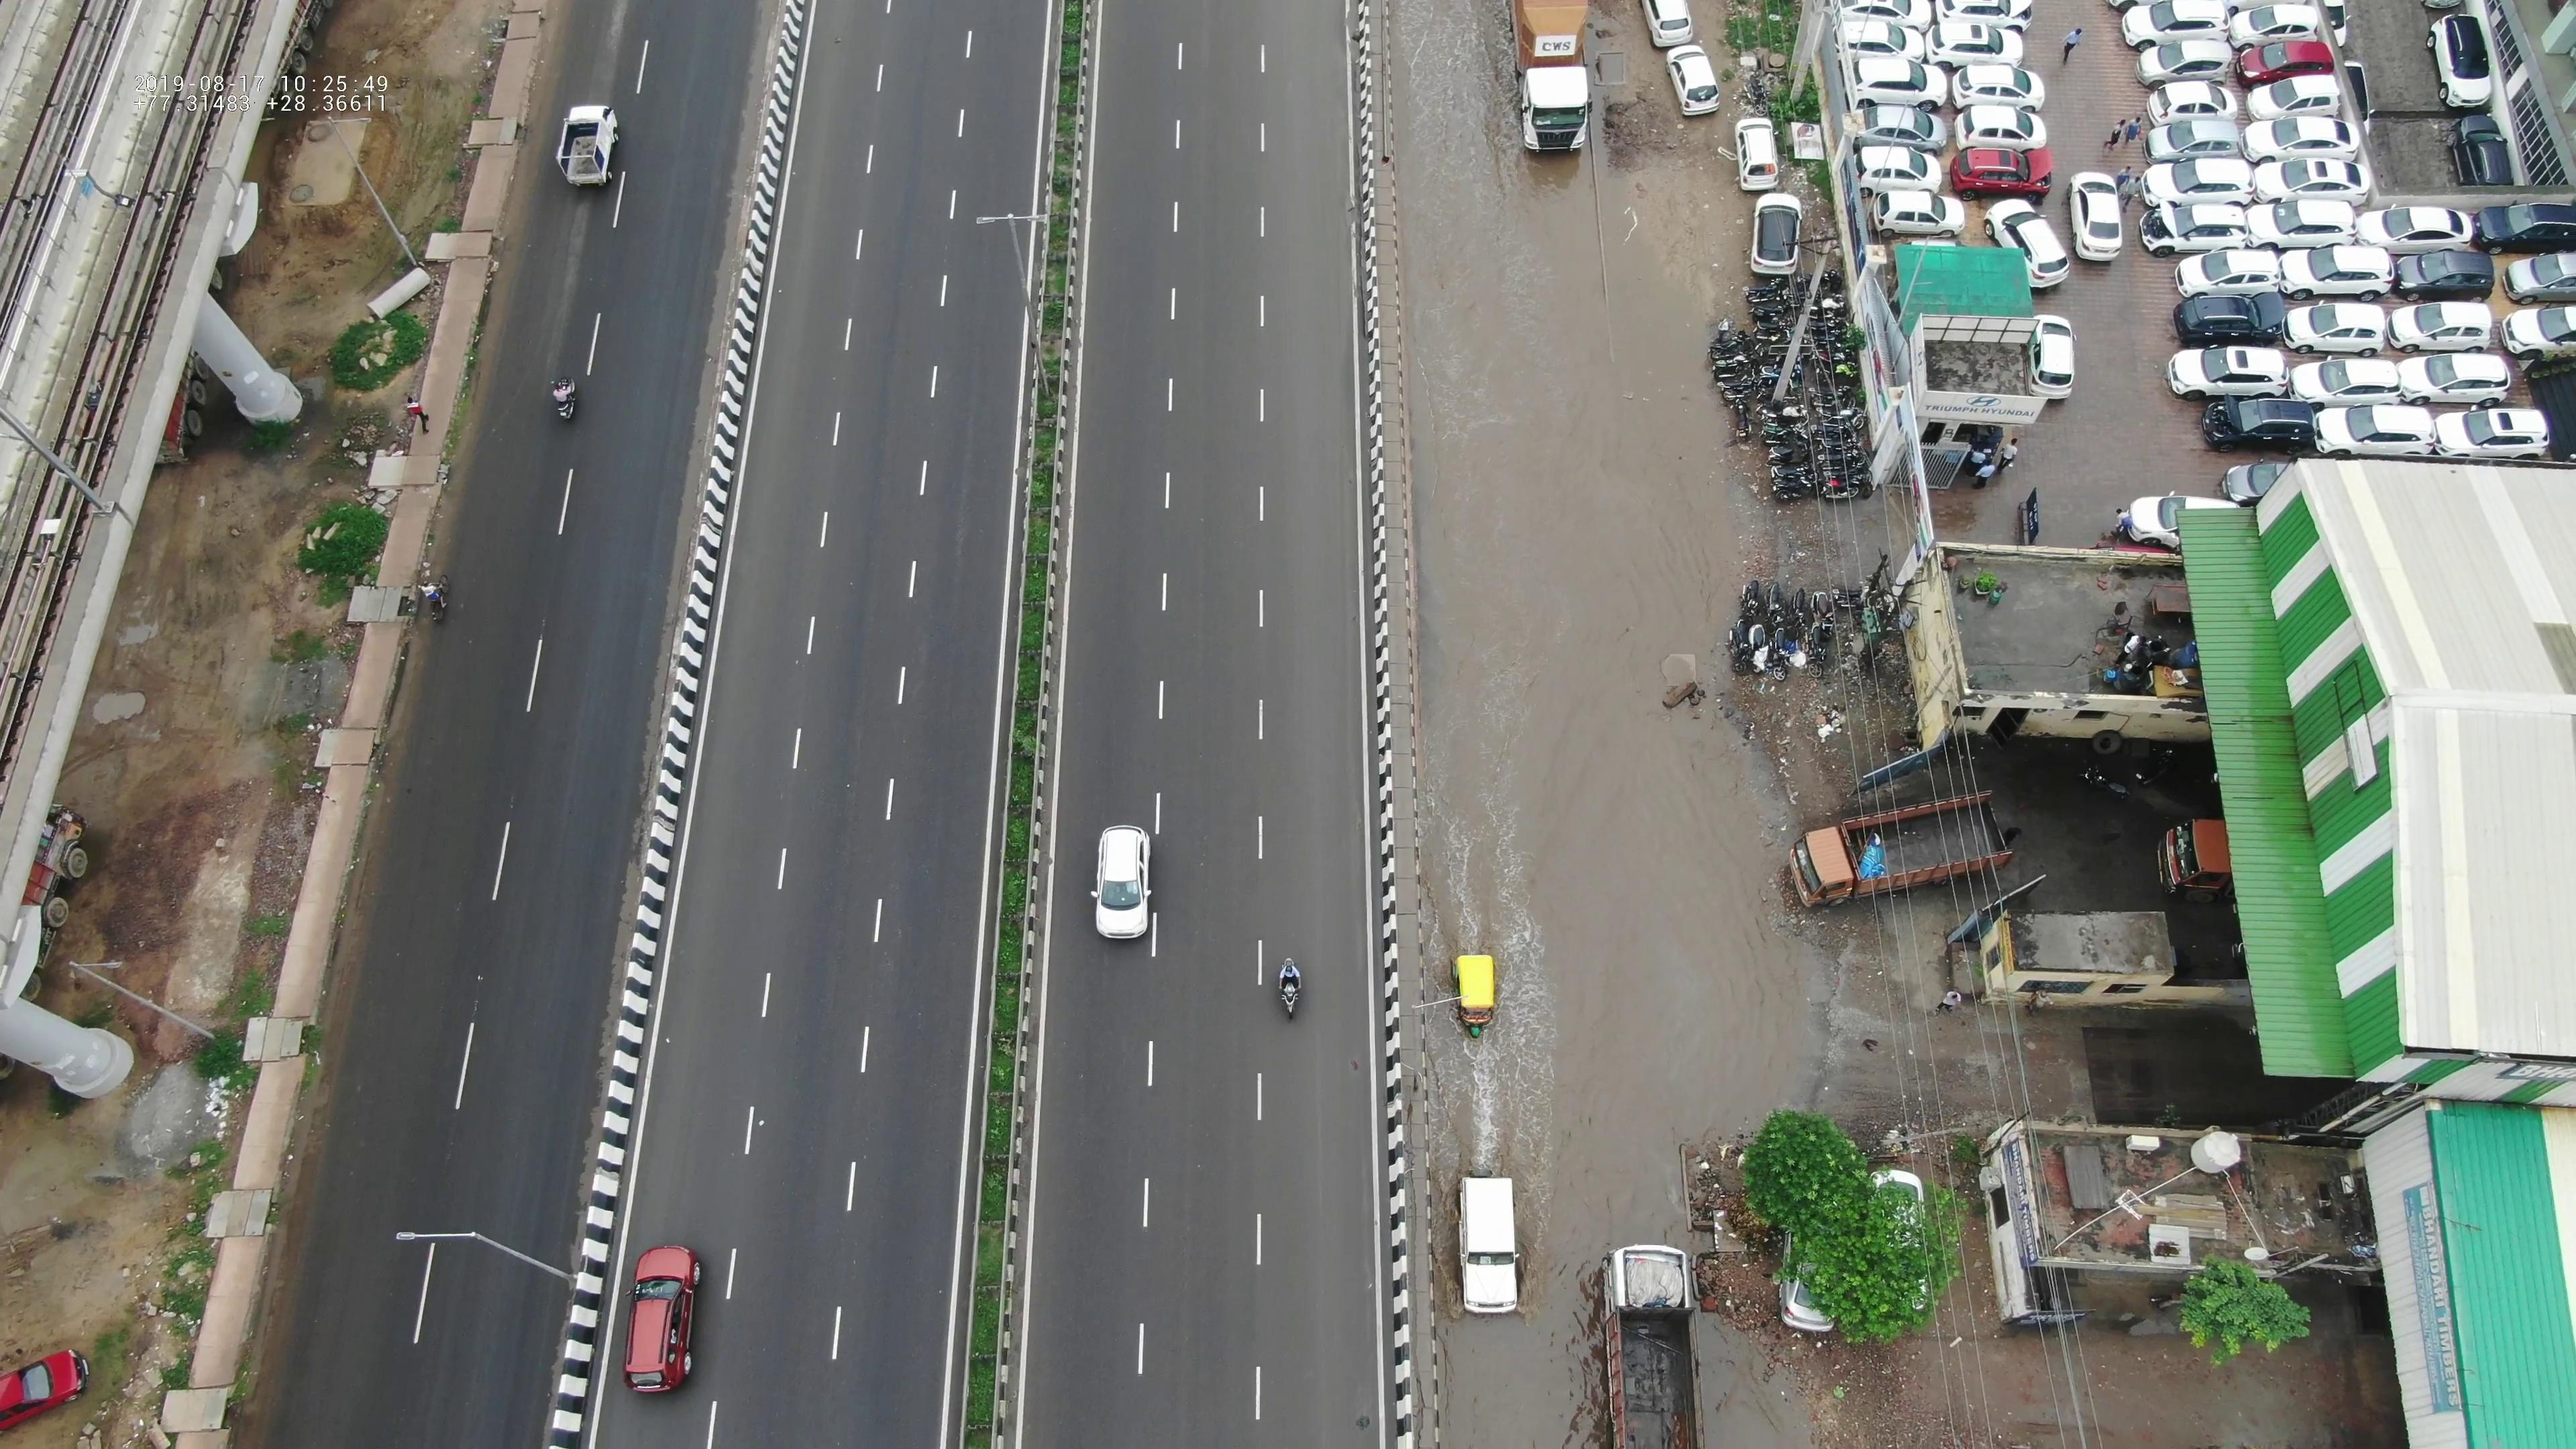Waterlogging: (1384, 400, 1752, 1111), (1346, 19, 1683, 331)
